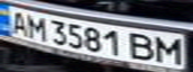1: (100, 27, 127, 56)
3: (45, 17, 69, 46)
5: (63, 21, 84, 50)
8: (81, 25, 103, 53)
A: (3, 8, 30, 36)
B: (127, 30, 160, 61)
M: (151, 34, 187, 64), (21, 12, 48, 41)
